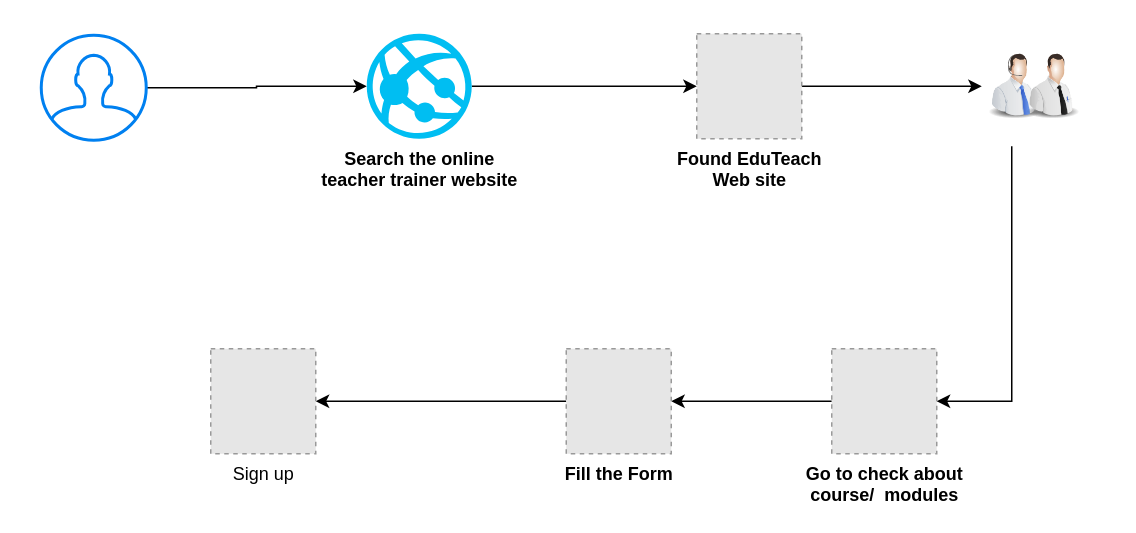
Image size: 1136x533. Some labels were removed from this diagram. Grey dashed boxes stand in for pictures. The centre of each missing label's shape, as x and y in pixels:
Choose sign up as teacher or lecturer: (1014,86)
Unregister User: (93,87)
